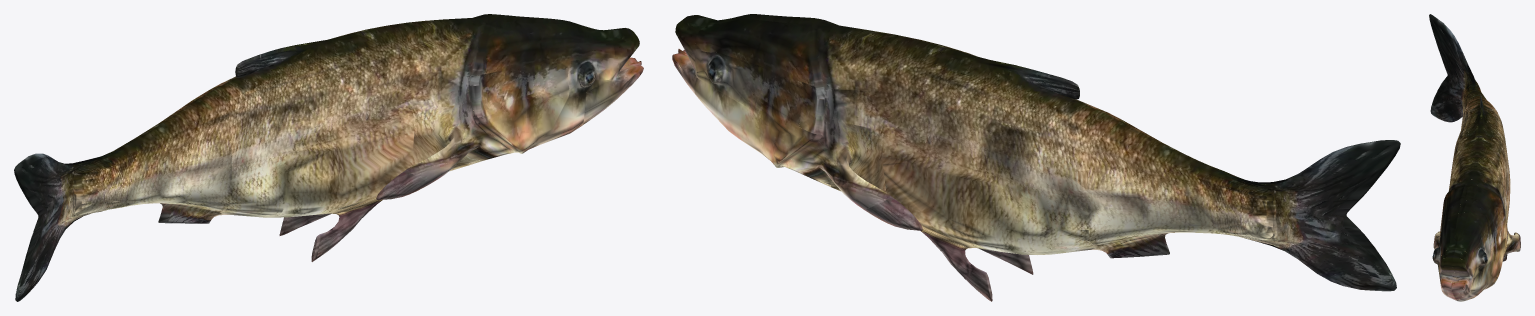
Rendered from silverfish.glb.
3 renders of one model, left to right at view 1: azimuth 30°, elevation 25°; view 2: azimuth 150°, elevation 25°; view 3: azimuth 270°, elevation 25°, orthographic. The views are drawn at different scales.
Parts seen in each view (by area): view 1: Object_30.001; view 2: Object_30.001; view 3: Object_30.001.
Boxes of the visible parts, left/top/right/bottom form: Object_30.001: left=14, top=14, right=643, bottom=301; Object_30.001: left=672, top=14, right=1400, bottom=301; Object_30.001: left=1429, top=14, right=1520, bottom=301.
Bounding box in the file's own units: 1 × 0.3035 × 0.1716.
1 material, 1 textured.
